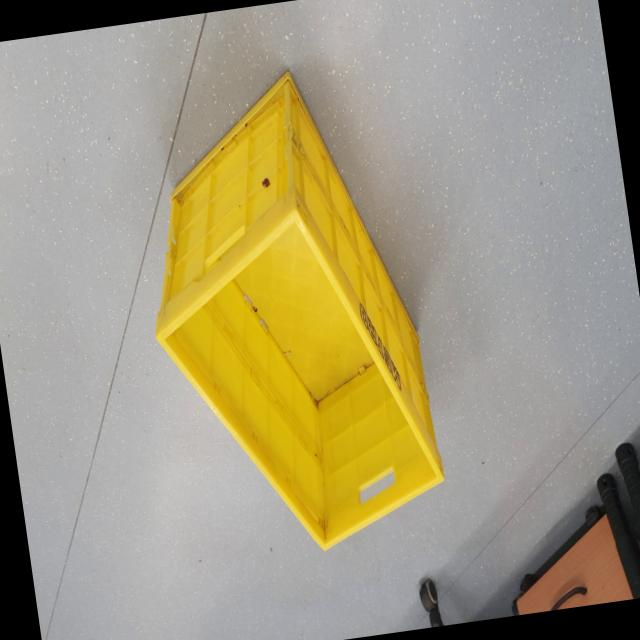box: (117, 36, 470, 584)
